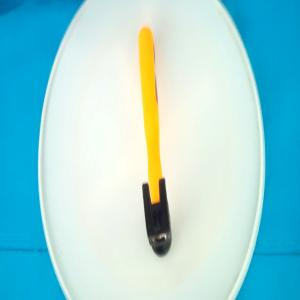martelo: (138, 25, 173, 258)
